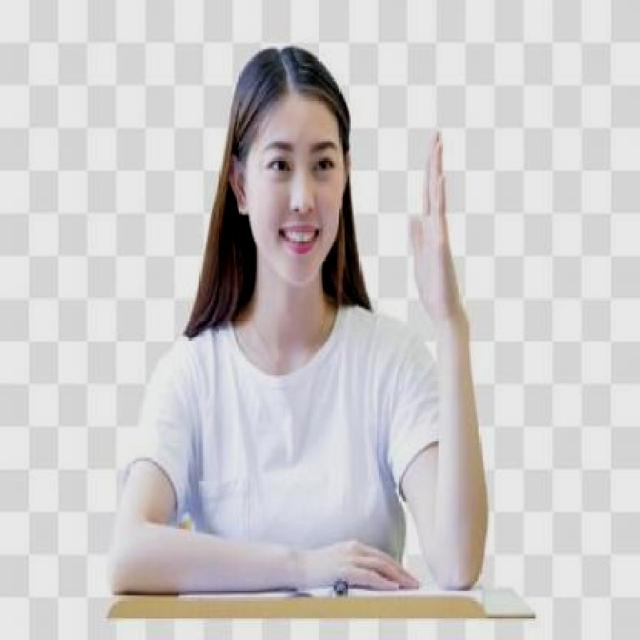face_nomask: (225, 120, 348, 291)
hand_noglove: (409, 131, 462, 323), (294, 538, 421, 592)
head_nohelmet: (230, 37, 358, 132)
person: (103, 34, 512, 634)
